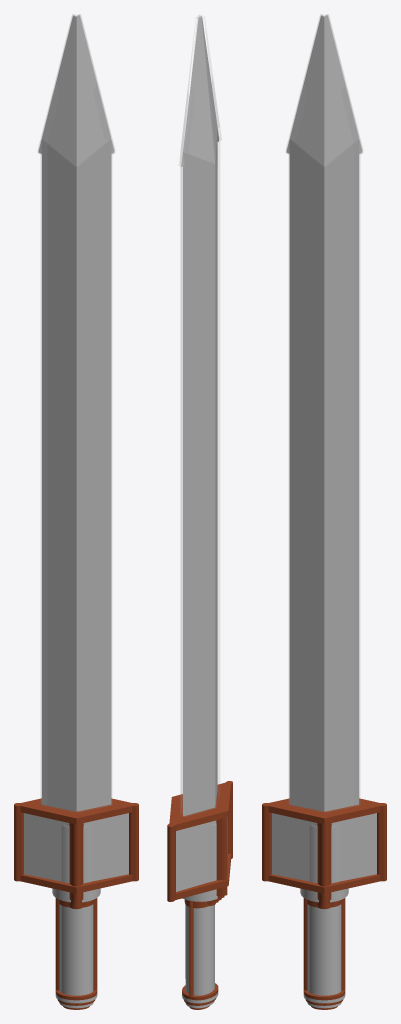
File: palladin-class-melle.obj
3 renders of one model, left to right at view 1: azimuth 90°, elevation 25°; view 2: azimuth 150°, elevation 25°; view 3: azimuth 270°, elevation 25°, orthographic.
Visible parts, largest first — view 1: Blade1, Blade2, Union1, Union2, Union3, Blade3; view 2: Blade1, Blade2, Union1, Union2, Union3, Blade3; view 3: Blade1, Blade3, Union1, Union2, Union3, Blade2.
Part boxes in pixels (x1,y1,x2,y2): Blade1: [38, 15, 114, 811]; Blade2: [38, 17, 114, 811]; Union1: [14, 798, 138, 1009]; Union2: [24, 813, 128, 1008]; Union3: [59, 904, 93, 995]; Blade3: [38, 14, 114, 802]; Blade1: [181, 15, 219, 816]; Blade2: [183, 17, 221, 816]; Union1: [167, 781, 232, 1009]; Union2: [176, 817, 227, 1008]; Union3: [185, 904, 214, 995]; Blade3: [179, 15, 199, 814]; Blade1: [286, 15, 362, 811]; Blade3: [286, 17, 362, 811]; Union1: [262, 798, 386, 1009]; Union2: [272, 813, 376, 1008]; Union3: [307, 904, 341, 995]; Blade2: [286, 14, 362, 802].
Bounding box in the file's own units: 0.475 × 7.88 × 0.9.
